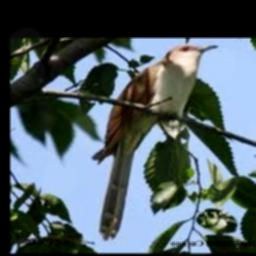Cuckoo: (92, 45, 219, 240)
